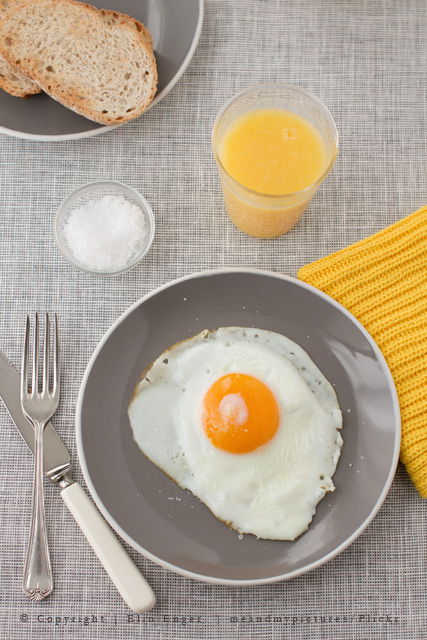fried egg: (139, 334, 346, 541)
slice of bread: (1, 2, 152, 131)
